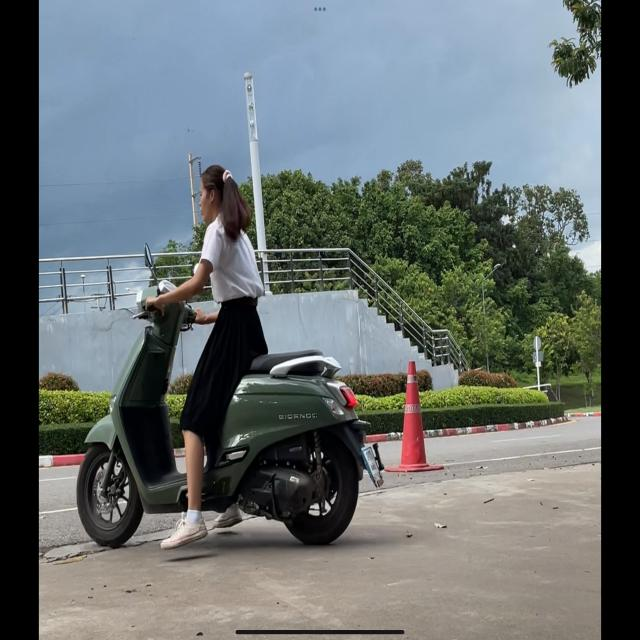seatbelt: (198, 163, 239, 224)
